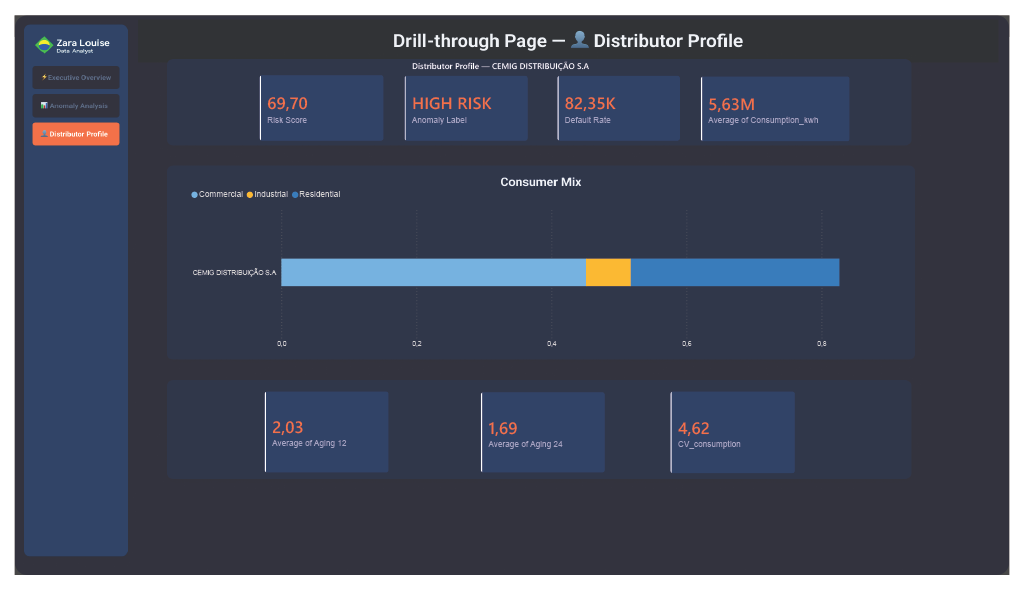

Layout of this report page (visuals, bound fields, positions):
{"tool":"powerbi","page":{"name":"Distributor Profile","canvas":[1600,900],"ordinal":2},"visuals":[{"type":"cardVisual","title":"Risk Score","fields":{"Data":["Avg(Risk Scores.risk_score)"]},"box":[377,78.8,233.1,139.6],"z":1000},{"type":"cardVisual","title":"Anomaly Label","fields":{"Data":["Min(Risk Scores.anomaly_label)"]},"box":[610.1,80.3,231.6,138],"z":2000},{"type":"cardVisual","title":"Avg Default Rate","fields":{"Data":["Avg(Features.avg_default_rate)"]},"box":[855.5,80.3,231.6,138],"z":3000},{"type":"cardVisual","title":"Avg Consumption (kWh)","fields":{"Data":["Avg(Features.avg_consumption_kwh)"]},"box":[1087.2,80.6,272.8,138.3],"z":4000},{"type":"barChart","fields":{"Y":["Avg(Features.pct_commercial)","Avg(Features.pct_industrial)","Avg(Features.pct_residential)"],"Category":["Risk Scores.distributor_name"]},"box":[277.6,268.4,1142.6,276.1],"z":5000},{"type":"cardVisual","title":"Aging 12m","fields":{"Data":["Avg(Features.avg_aging_12)"]},"box":[385,588.3,233.3,163.3],"z":6000},{"type":"cardVisual","title":"Aging 24m","fields":{"Data":["Avg(Features.avg_aging_24)"]},"box":[733.1,589,233.1,162.6],"z":7000},{"type":"cardVisual","title":"Consumption Variability","fields":{"Data":["Avg(Features.cv_consumption)"]},"box":[1038.3,588.3,233.3,165],"z":8000},{"type":"cardVisual","fields":{"Data":["measures_.Title Distributor Profile"]},"box":[610,40,631.7,78.3],"z":8001},{"type":"actionButton","box":[25.8,80.5,146.1,39.8],"z":8002},{"type":"actionButton","box":[25.7,128.6,146.4,39.3],"z":8003}]}

Visuals, with their boxes on the page's 1600x900 design canvas (x1, y1, x2, y2). These are canvas units, not pixel positions in the 1024x590 screenshot, which may show the page scaled, cropped or inside an application window:
"Risk Score" cardVisual: rect(377, 79, 610, 218)
"Anomaly Label" cardVisual: rect(610, 80, 842, 218)
"Avg Default Rate" cardVisual: rect(856, 80, 1087, 218)
"Avg Consumption (kWh)" cardVisual: rect(1087, 81, 1360, 219)
barChart - Avg(Features.pct_commercial) x Avg(Features.pct_industrial): rect(278, 268, 1420, 544)
"Aging 12m" cardVisual: rect(385, 588, 618, 752)
"Aging 24m" cardVisual: rect(733, 589, 966, 752)
"Consumption Variability" cardVisual: rect(1038, 588, 1272, 753)
cardVisual - measures_.Title Distributor Profile: rect(610, 40, 1242, 118)
actionButton: rect(26, 80, 172, 120)
actionButton: rect(26, 129, 172, 168)
